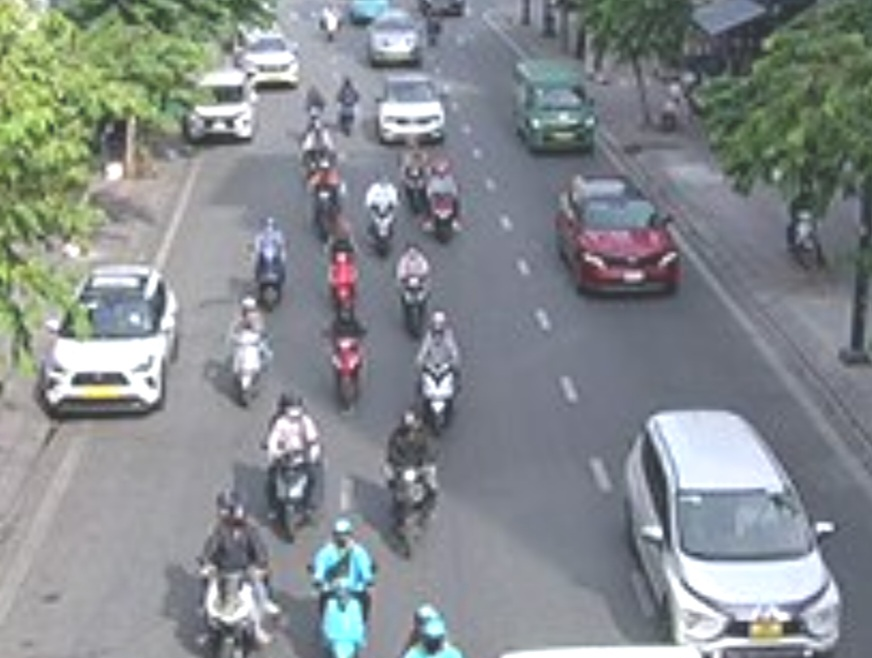car: (618, 411, 841, 644), (39, 269, 178, 426), (557, 171, 681, 296), (511, 58, 596, 158), (186, 68, 258, 142), (374, 75, 448, 143), (238, 24, 302, 89), (367, 15, 421, 66)
